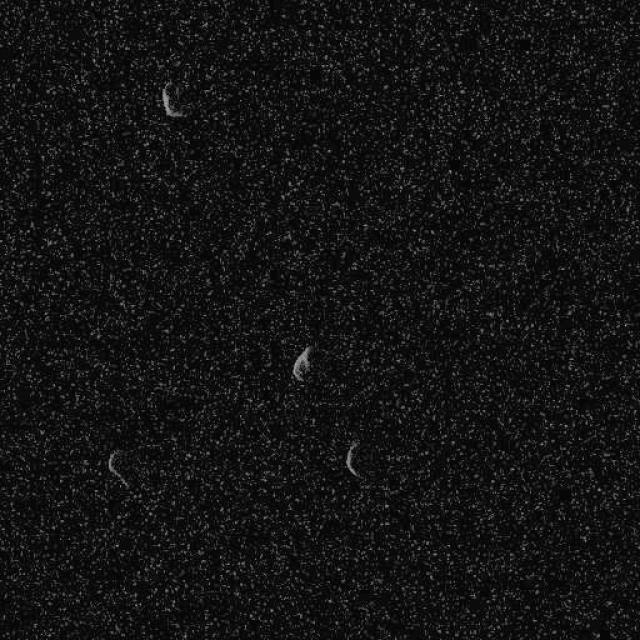D2: (106, 449, 130, 490), (160, 81, 185, 118), (290, 344, 314, 381), (343, 439, 362, 480)
